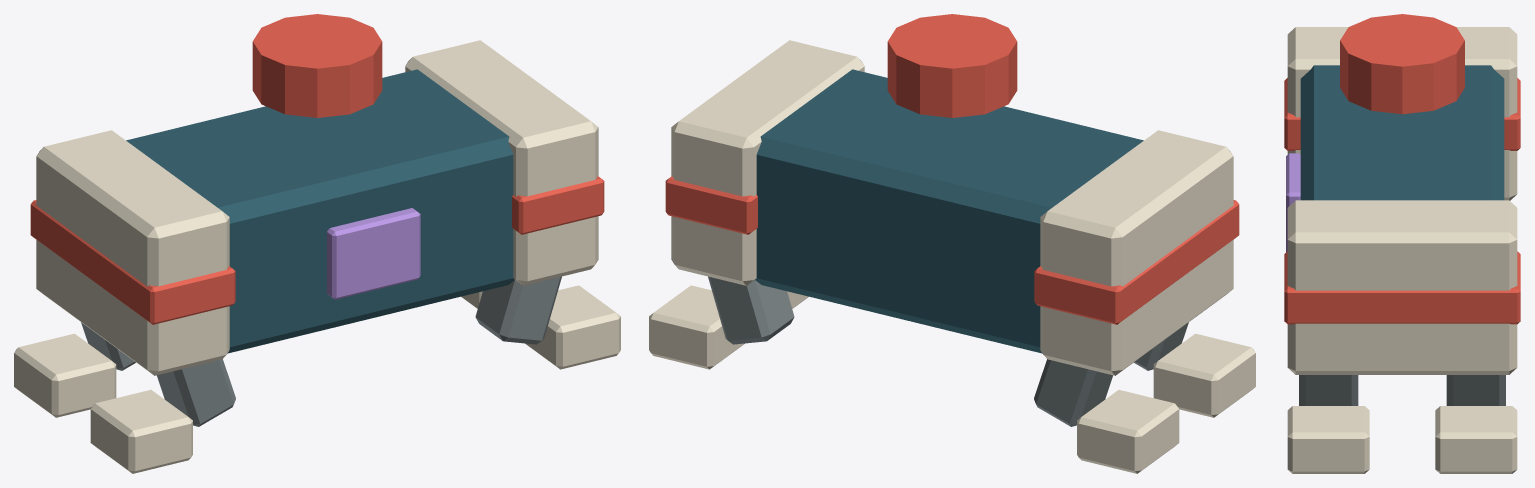
The model's file is enemy_b01_reverse_crab_authored.glb.
The picture shows the model from 3 angles, left to right: view 1: azimuth 30°, elevation 25°; view 2: azimuth 150°, elevation 25°; view 3: azimuth 270°, elevation 25°; orthographic projection. The views are drawn at different scales.
Visible parts, largest first — view 1: Chassis, Barrier_L, Barrier_R, WarningBeacon, Barrier_Stripe_L, CountermeasureSocket, Leg_L_B_Foot, Leg_L_F_Foot, Leg_R_B_Foot, Leg_R_B_Upper, Barrier_Stripe_R, Leg_L_B_Upper (+1 smaller); view 2: Chassis, Barrier_L, Barrier_R, WarningBeacon, Barrier_Stripe_L, Leg_L_F_Foot, Leg_L_B_Foot, Leg_R_F_Foot, Leg_R_F_Upper, Barrier_Stripe_R, Leg_L_F_Upper, Leg_L_B_Upper; view 3: Barrier_R, Chassis, WarningBeacon, Barrier_Stripe_R, Barrier_L, Leg_R_B_Foot, Leg_R_F_Foot, Leg_R_B_Upper, Leg_R_F_Upper, Barrier_Stripe_L, CountermeasureSocket.
Part boxes in pixels (left/top/right/bottom): Chassis: left=126, top=69, right=514, bottom=353; Barrier_L: left=36, top=130, right=229, bottom=375; Barrier_R: left=405, top=40, right=598, bottom=285; WarningBeacon: left=252, top=14, right=382, bottom=117; Barrier_Stripe_L: left=30, top=200, right=235, bottom=324; CountermeasureSocket: left=327, top=208, right=420, bottom=299; Leg_L_B_Foot: left=90, top=390, right=192, bottom=473; Leg_L_F_Foot: left=14, top=333, right=116, bottom=417; Leg_R_B_Foot: left=525, top=285, right=620, bottom=369; Leg_R_B_Upper: left=475, top=276, right=561, bottom=344; Barrier_Stripe_R: left=512, top=176, right=604, bottom=234; Leg_L_B_Upper: left=157, top=359, right=235, bottom=426; Chassis: left=755, top=69, right=1143, bottom=353; Barrier_L: left=1040, top=130, right=1233, bottom=375; Barrier_R: left=671, top=40, right=864, bottom=285; WarningBeacon: left=887, top=14, right=1017, bottom=117; Barrier_Stripe_L: left=1034, top=200, right=1239, bottom=324; Leg_L_F_Foot: left=1077, top=390, right=1179, bottom=473; Leg_L_B_Foot: left=1153, top=333, right=1255, bottom=417; Leg_R_F_Foot: left=649, top=285, right=744, bottom=369; Leg_R_F_Upper: left=708, top=276, right=794, bottom=344; Barrier_Stripe_R: left=665, top=176, right=757, bottom=234; Leg_L_F_Upper: left=1034, top=359, right=1112, bottom=426; Leg_L_B_Upper: left=1134, top=322, right=1188, bottom=370; Barrier_R: left=1287, top=200, right=1517, bottom=374; Chassis: left=1300, top=65, right=1504, bottom=200; WarningBeacon: left=1340, top=14, right=1464, bottom=114; Barrier_Stripe_R: left=1284, top=251, right=1520, bottom=324; Barrier_L: left=1287, top=27, right=1517, bottom=200; Leg_R_B_Foot: left=1287, top=406, right=1369, bottom=473; Leg_R_F_Foot: left=1435, top=406, right=1517, bottom=473; Leg_R_B_Upper: left=1299, top=375, right=1358, bottom=405; Leg_R_F_Upper: left=1446, top=375, right=1505, bottom=405; Barrier_Stripe_L: left=1284, top=78, right=1520, bottom=150; CountermeasureSocket: left=1286, top=153, right=1300, bottom=251.
Size of the model in its own units: 3.34 by 2.15 by 1.44.
